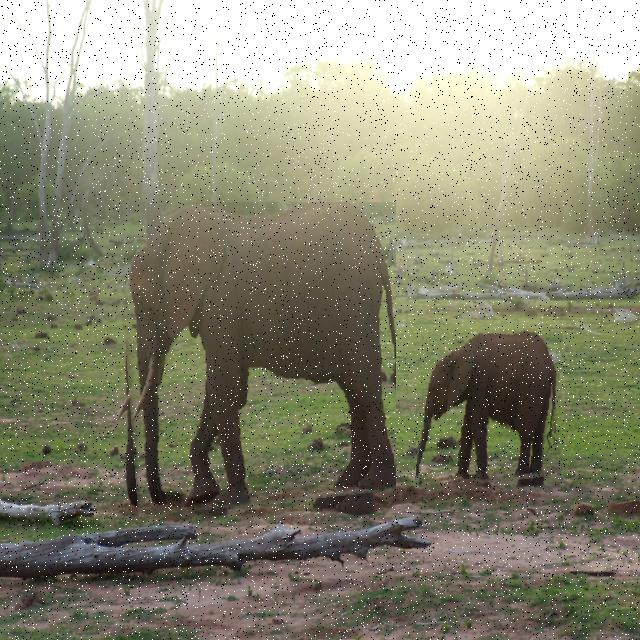elephant: (115, 202, 396, 517), (419, 329, 563, 491)
